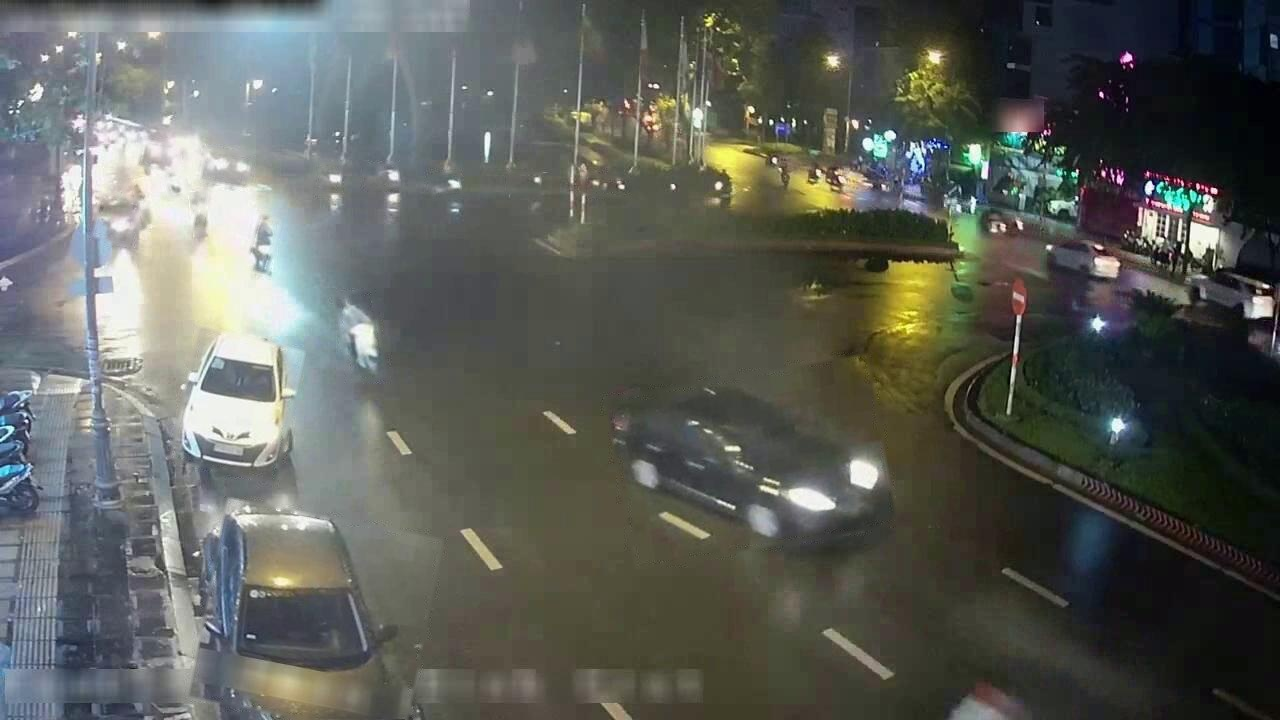Car: (610, 386, 892, 543), (197, 508, 406, 719), (180, 334, 294, 469), (1047, 240, 1120, 280), (97, 199, 140, 242), (204, 151, 251, 184), (141, 139, 177, 172), (981, 209, 1023, 234)
Motorcycle: (0, 463, 39, 513), (0, 409, 32, 464), (0, 441, 26, 466)
Motorcyclist: (338, 296, 381, 376), (250, 215, 273, 273), (508, 171, 550, 197), (128, 181, 151, 228), (313, 165, 342, 194), (587, 176, 628, 196), (369, 165, 400, 190), (192, 193, 208, 239), (429, 176, 461, 197), (165, 167, 187, 196)
Sign: (1010, 277, 1027, 317)
